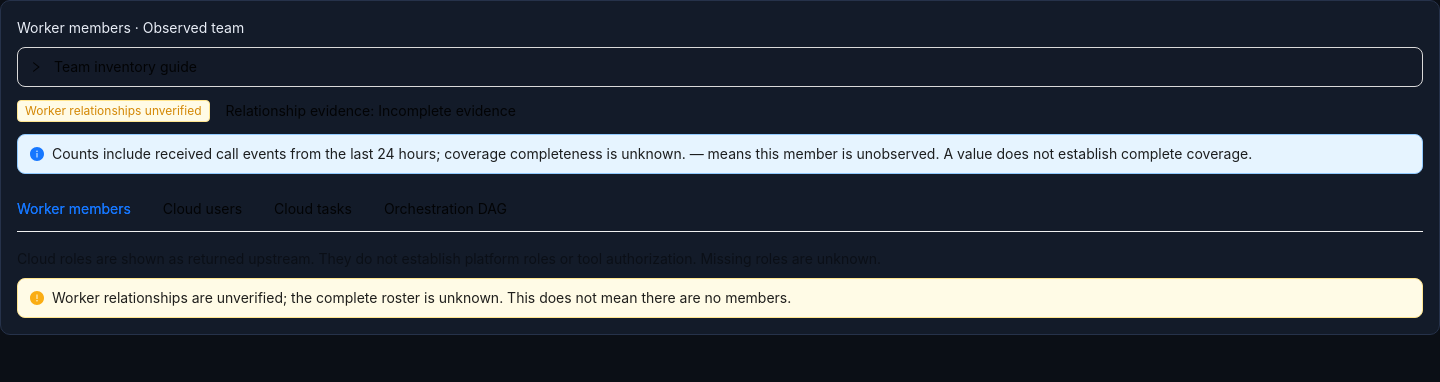
it: shows missing Worker relationships and missing human rosters as unknown instead of observed empty
This screenshot has width=1440, height=382.
Check: the text "complete roster is unknown" is shown, box [52,289,791,306]
Step 1. Click the tab "Cloud users" → (202,209), box [163,198,242,220]
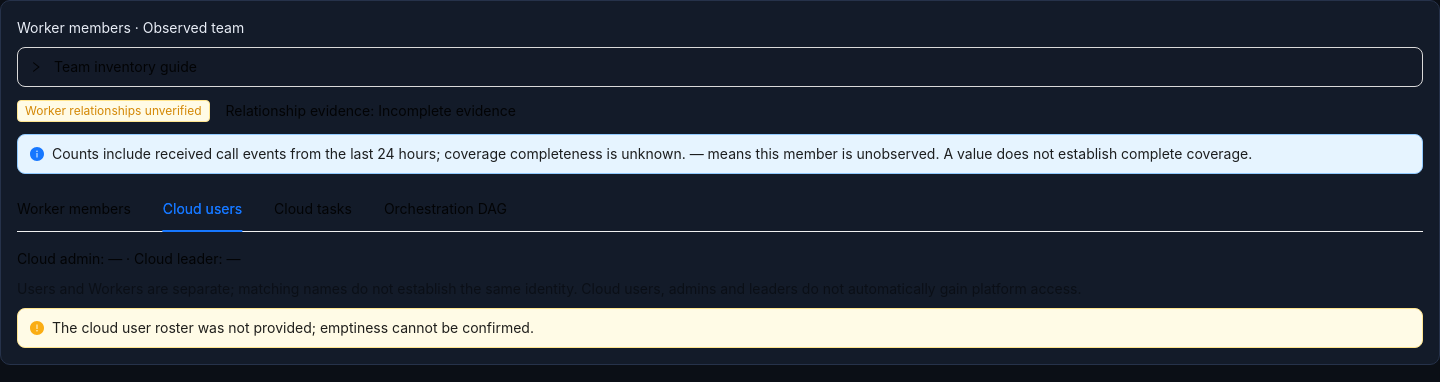
Check: the text "emptiness cannot be confirmed" is shown, box [52,319,534,336]
